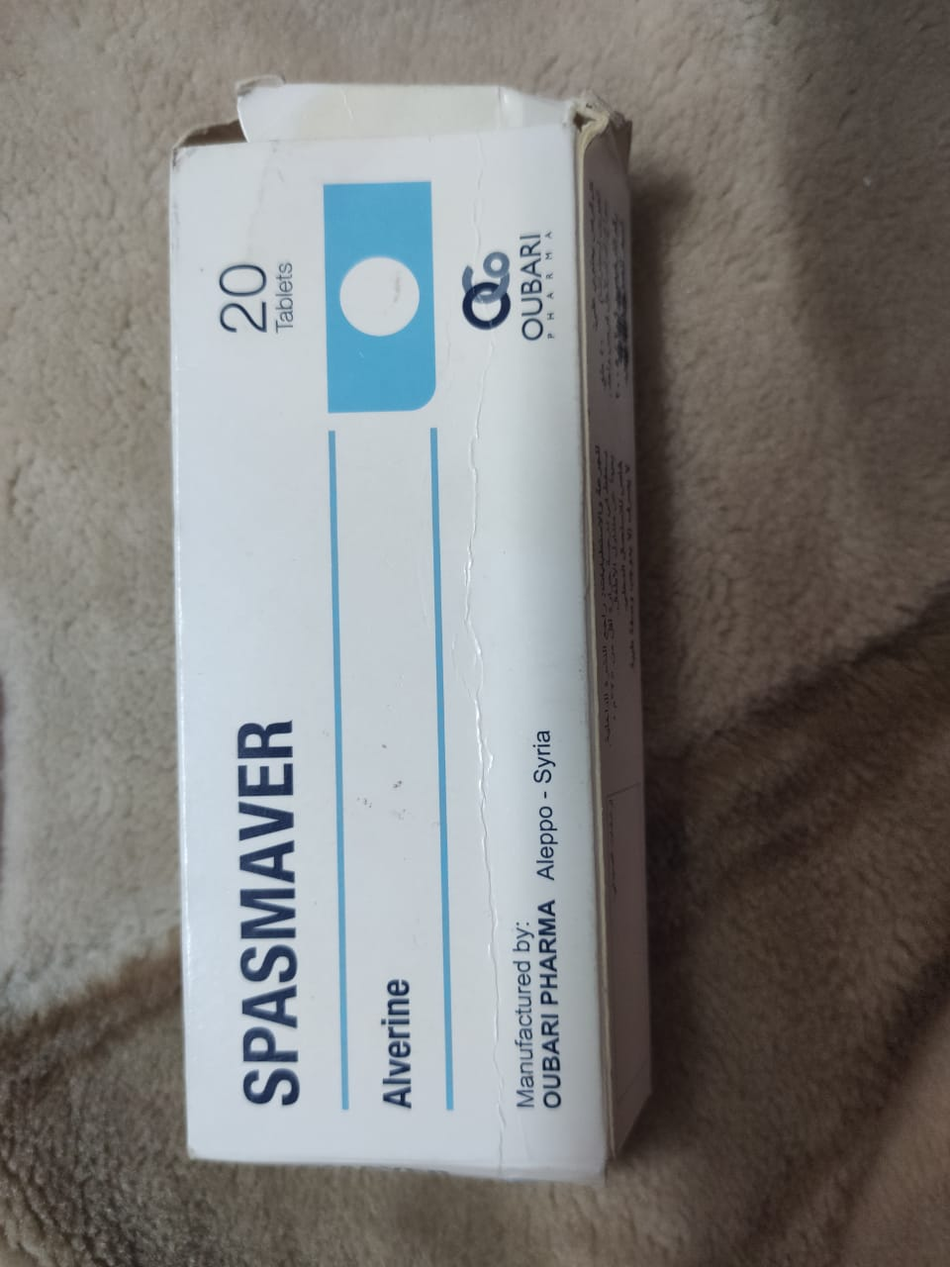Medicine: (145, 129, 683, 1188)
